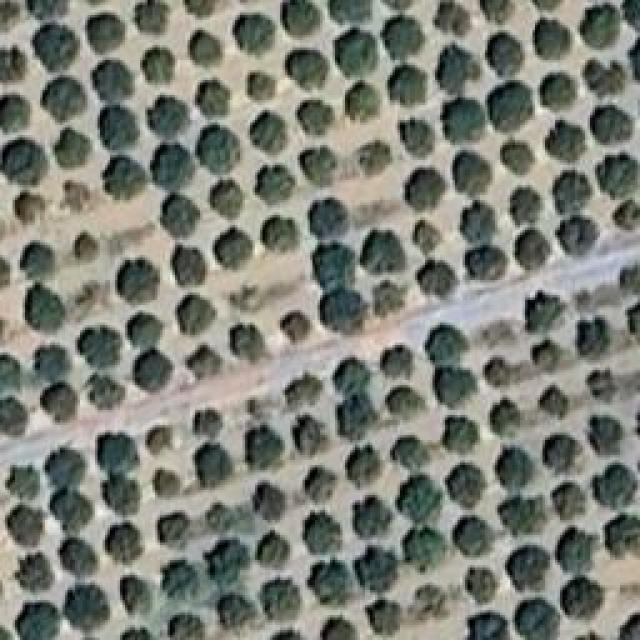Tree: (488, 82, 534, 132), (398, 475, 443, 525), (435, 45, 480, 95), (33, 23, 79, 71), (150, 143, 195, 191), (323, 288, 369, 334), (3, 140, 49, 186), (205, 540, 250, 587), (65, 585, 110, 632), (198, 125, 242, 173), (45, 490, 95, 532), (313, 243, 356, 291), (335, 30, 378, 78), (403, 527, 448, 572), (103, 155, 148, 200), (355, 548, 399, 594), (118, 258, 162, 304), (593, 464, 638, 508), (508, 545, 552, 590), (43, 77, 88, 121), (310, 560, 353, 606), (443, 98, 487, 142), (360, 230, 405, 273), (383, 15, 426, 60), (25, 283, 65, 331), (433, 365, 477, 408), (78, 325, 122, 368), (555, 528, 595, 575), (560, 578, 604, 620), (515, 598, 559, 640), (445, 464, 486, 508), (598, 154, 639, 198), (498, 495, 543, 535), (133, 347, 173, 392), (160, 193, 200, 238), (580, 5, 620, 50), (425, 325, 468, 366), (330, 358, 373, 399), (553, 170, 592, 215), (333, 401, 380, 438), (405, 170, 446, 212), (44, 448, 86, 489), (353, 495, 393, 538), (558, 216, 601, 256), (213, 228, 253, 271), (148, 95, 188, 138), (285, 50, 328, 90), (93, 60, 133, 103), (245, 425, 284, 469), (195, 443, 234, 487), (455, 152, 493, 197), (15, 605, 63, 640), (100, 433, 140, 475), (545, 120, 585, 162), (308, 198, 348, 240), (303, 513, 342, 556), (487, 33, 525, 77), (178, 295, 218, 336), (525, 290, 564, 332), (495, 448, 533, 491), (590, 105, 633, 143), (583, 60, 626, 98), (102, 108, 140, 151), (460, 200, 496, 245), (453, 517, 493, 557), (255, 165, 295, 205), (238, 15, 277, 56), (88, 13, 127, 54), (15, 552, 54, 592), (105, 523, 143, 564), (390, 65, 428, 106), (40, 384, 78, 424), (55, 128, 93, 168), (345, 445, 381, 487), (293, 415, 329, 457), (8, 505, 44, 547), (515, 230, 551, 272), (250, 113, 286, 155), (605, 515, 640, 558), (543, 435, 582, 473), (418, 260, 458, 297), (265, 580, 301, 621), (88, 373, 127, 410), (163, 560, 199, 600), (218, 593, 258, 629), (63, 537, 99, 577), (103, 475, 139, 515), (262, 215, 300, 252), (385, 385, 425, 420), (410, 585, 448, 621), (540, 73, 576, 111), (345, 82, 380, 121), (253, 482, 287, 522), (578, 318, 612, 358), (538, 20, 572, 60), (128, 313, 164, 350), (443, 415, 478, 453), (35, 347, 73, 382), (20, 243, 55, 281), (195, 80, 230, 118), (285, 373, 320, 410), (590, 418, 624, 456), (233, 325, 267, 363), (175, 245, 206, 286), (553, 483, 587, 520), (392, 438, 430, 471), (210, 180, 243, 218), (510, 187, 541, 227), (303, 147, 334, 187), (468, 250, 509, 280), (188, 345, 223, 380), (435, 2, 470, 37), (258, 533, 292, 569), (358, 140, 392, 176), (285, 0, 319, 36), (373, 280, 406, 317), (400, 120, 433, 157), (298, 102, 333, 136), (368, 600, 401, 636), (305, 468, 338, 504), (190, 30, 223, 66), (143, 48, 176, 84), (490, 398, 521, 436), (503, 140, 536, 175), (0, 95, 30, 133), (465, 568, 496, 604), (8, 468, 41, 501), (15, 193, 48, 226), (0, 399, 28, 436), (533, 340, 564, 373), (413, 220, 442, 255), (468, 615, 508, 640), (588, 370, 619, 402), (158, 513, 189, 545), (540, 385, 570, 418), (330, 0, 372, 23), (0, 48, 26, 84), (280, 314, 311, 344), (125, 578, 150, 615), (385, 345, 413, 378), (137, 5, 167, 35), (208, 502, 237, 532), (248, 72, 277, 101), (485, 358, 513, 388), (612, 200, 640, 230), (322, 617, 358, 640), (65, 184, 91, 214), (0, 357, 20, 396), (27, 0, 68, 19), (169, 617, 202, 640), (75, 232, 100, 262), (75, 283, 105, 308), (155, 470, 181, 498), (480, 0, 511, 23), (148, 428, 174, 455), (195, 414, 223, 438), (620, 263, 640, 293), (248, 398, 274, 421), (620, 612, 640, 640), (0, 0, 20, 28), (185, 0, 217, 17), (625, 0, 640, 30), (630, 38, 640, 81), (627, 302, 640, 335), (120, 628, 153, 640), (575, 290, 592, 312), (0, 258, 11, 289), (273, 630, 306, 640), (382, 0, 412, 11), (533, 0, 562, 10), (575, 630, 605, 639)
